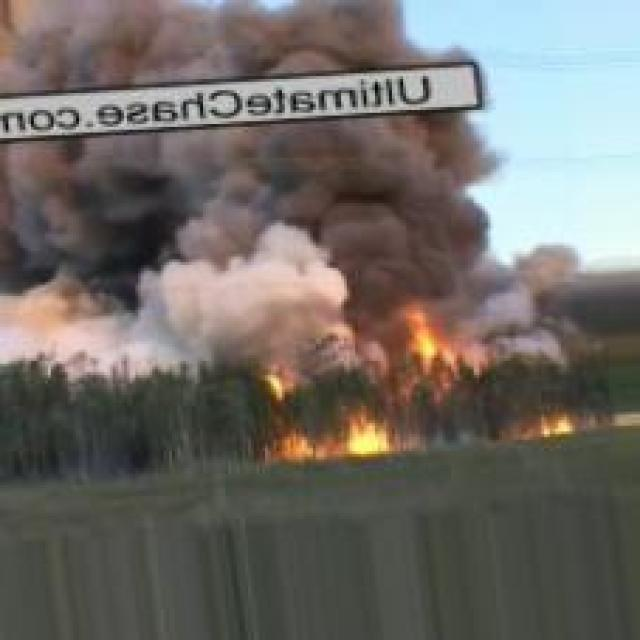fire: (223, 297, 616, 465)
smoke: (31, 6, 526, 307)
